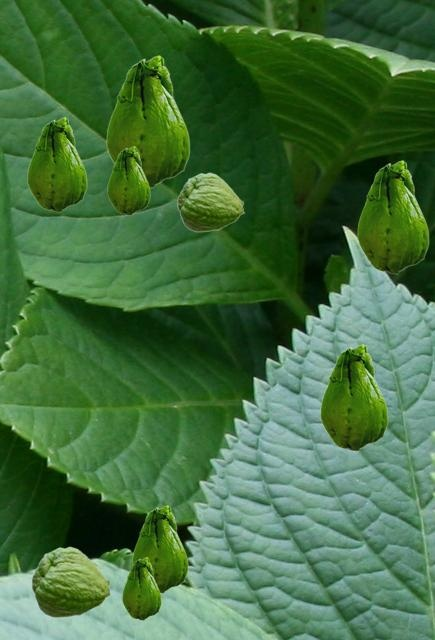sayote: (106, 55, 189, 187), (357, 160, 428, 273), (320, 344, 387, 450), (31, 546, 111, 617), (27, 117, 86, 211), (132, 505, 187, 592), (177, 172, 244, 231), (107, 146, 149, 214), (122, 557, 160, 619)
